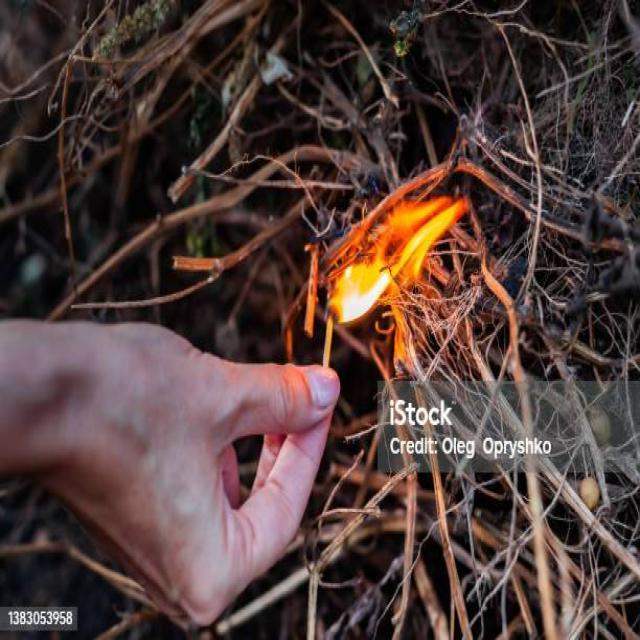Fire: (321, 175, 472, 348)
